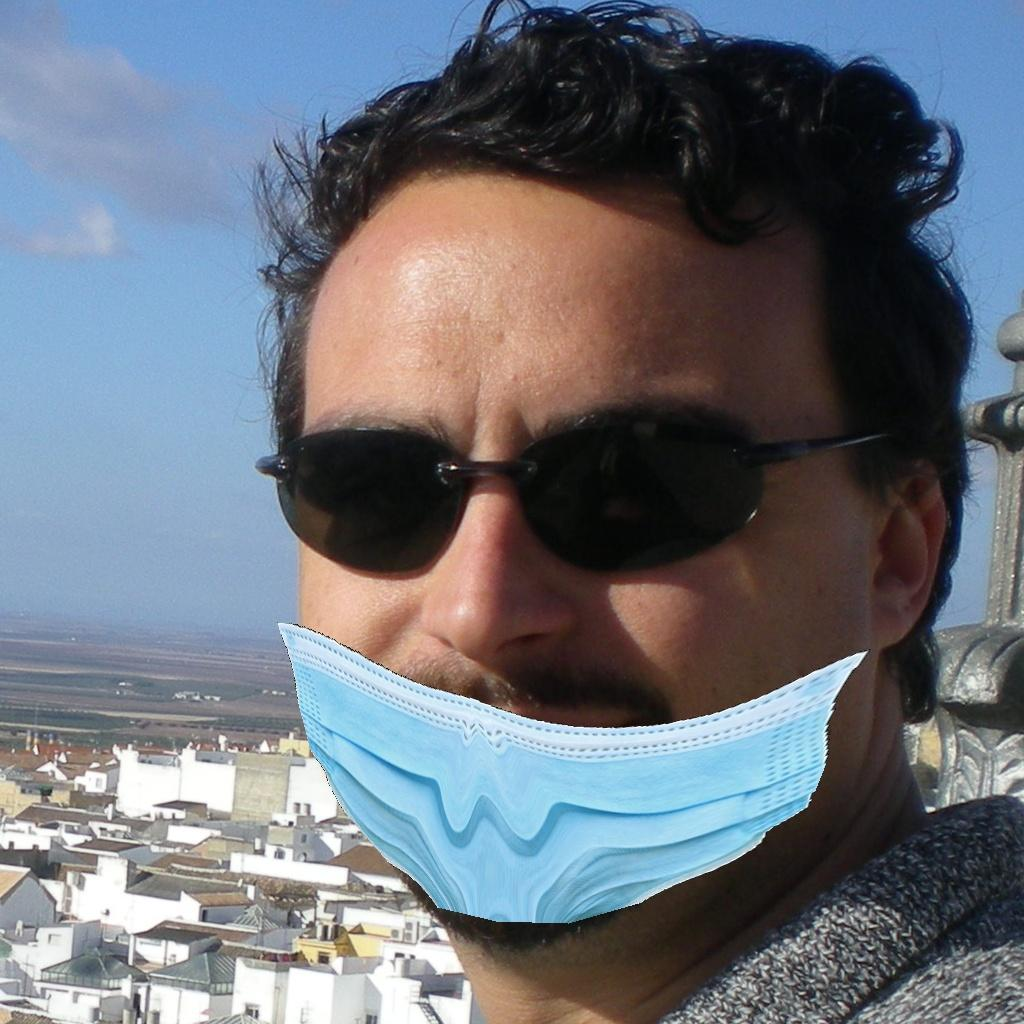Máscara Incorreta: (259, 308, 878, 920)
